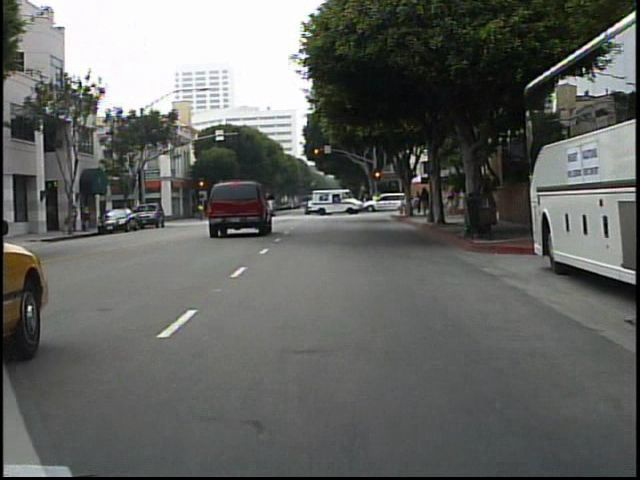person: (445, 183, 461, 222), (459, 181, 468, 219)
